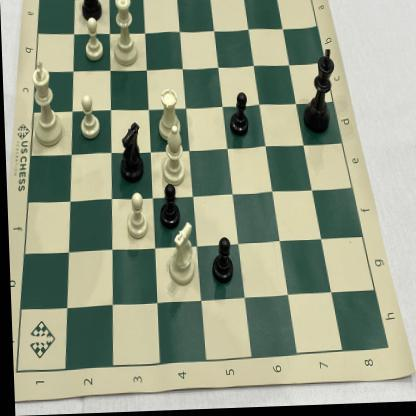black-king: (298, 47, 340, 139)
black-knight: (115, 119, 145, 189)
black-pawn: (207, 233, 235, 288), (224, 89, 250, 141), (154, 182, 180, 232)
black-rook: (80, 0, 104, 27)
white-bishop: (156, 125, 190, 190)
white-king: (26, 55, 66, 152)
white-knight: (162, 219, 197, 292)
white-pawn: (80, 15, 106, 66), (123, 192, 148, 245), (76, 92, 102, 142)
white-queen: (108, 0, 142, 71)
white-rook: (154, 86, 182, 146)
